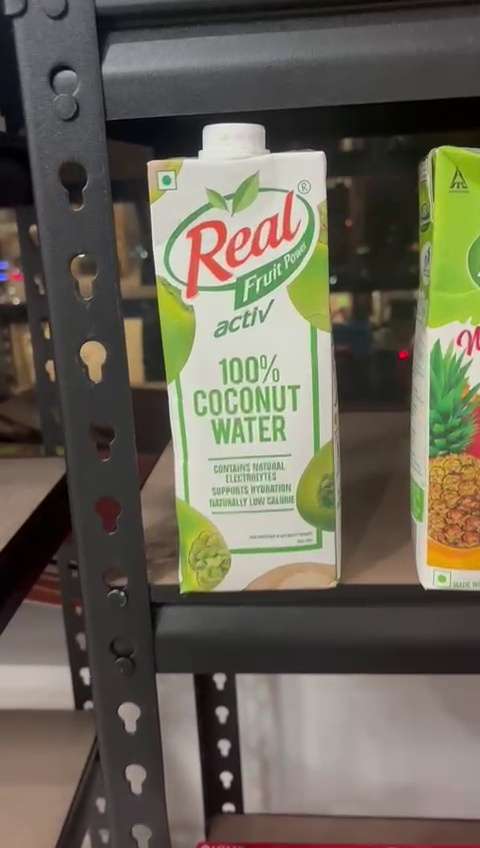Coconut water: (159, 128, 339, 594)
